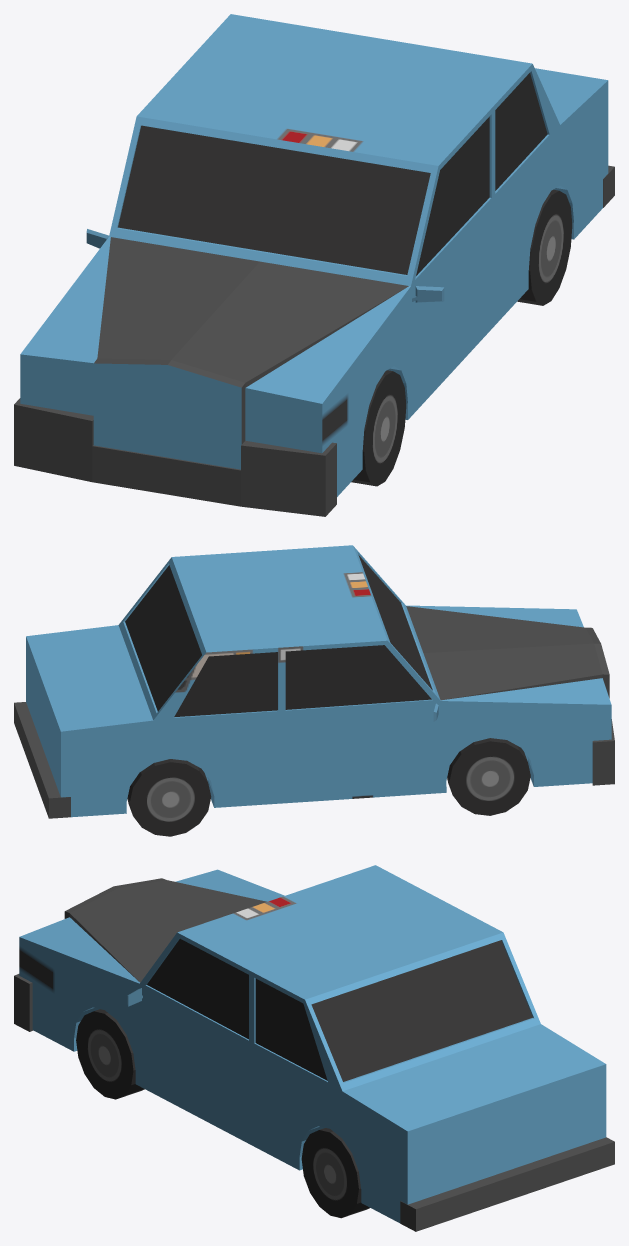
The model's file is Car3_2.glb.
The picture shows the model from 3 angles, top to bottom: view 1: azimuth 30°, elevation 25°; view 2: azimuth 150°, elevation 25°; view 3: azimuth 270°, elevation 25°; orthographic projection. The views are drawn at different scales.
Parts seen in each view (by area): view 1: Vehicle_Car_color02.006; view 2: Vehicle_Car_color02.006; view 3: Vehicle_Car_color02.006.
Boxes of the visible parts, bbox=[...] form: Vehicle_Car_color02.006: bbox=[14, 14, 614, 516]; Vehicle_Car_color02.006: bbox=[14, 545, 614, 836]; Vehicle_Car_color02.006: bbox=[14, 865, 614, 1231].
Size of the model in its own units: 1.62 by 0.5488 by 1.48.
Materials: 1 (1 with a texture image).
